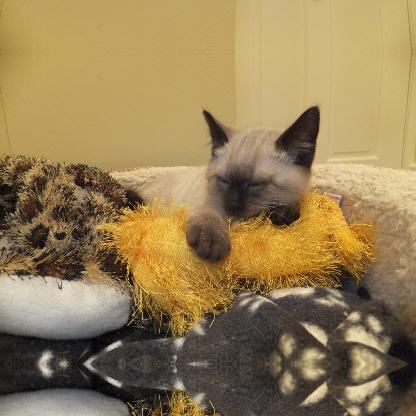Cat: (111, 104, 319, 262)
